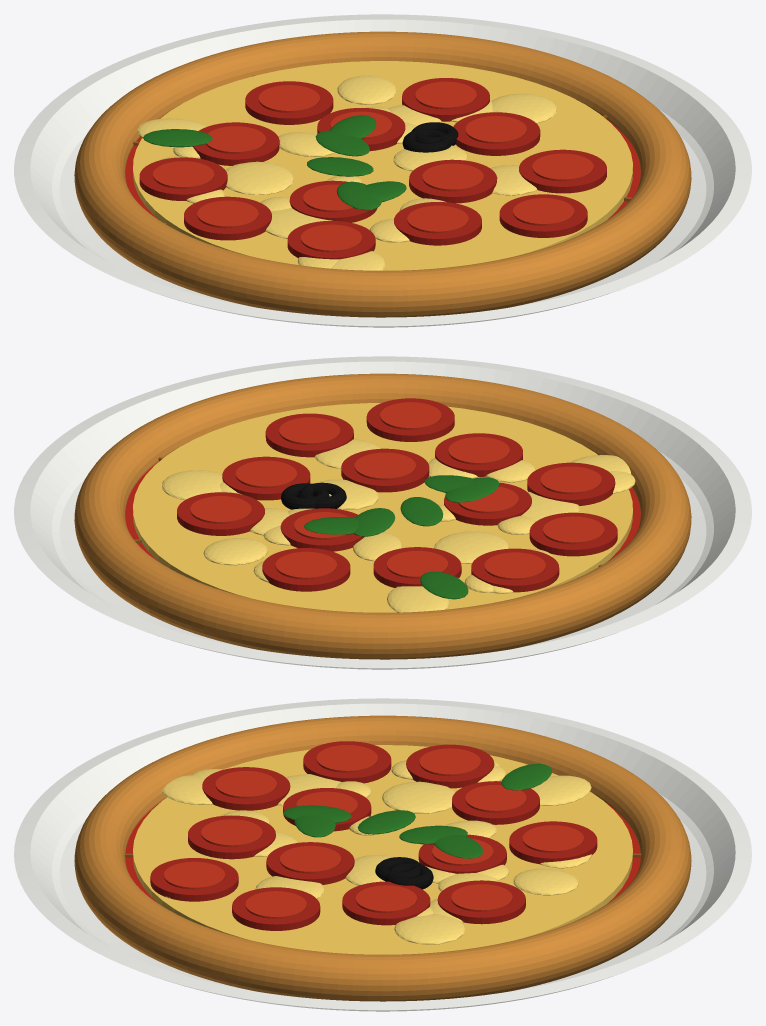
Rendered from pizza.glb.
The picture shows the model from 3 angles, top to bottom: view 1: azimuth 30°, elevation 25°; view 2: azimuth 150°, elevation 25°; view 3: azimuth 270°, elevation 25°; orthographic projection.
Parts seen in each view (by area): view 1: borda, prato, queijo, calabresa8, calabresa9, derretido10, calabresa7, calabresa1, calabresa6, calabresa11, calabresa3, calabresa12 (+37 smaller); view 2: borda, prato, queijo, calabresa8, calabresa7, calabresa9, calabresa4, calabresa6, calabresa3, calabresa12, calabresa10, calabresa11 (+38 smaller); view 3: borda, prato, queijo, calabresa3, calabresa8, derretido10, calabresa10, calabresa11, calabresa4, calabresa9, calabresa1, calabresa2 (+35 smaller).
Boxes of the visible parts, <box> form: borda: <box>74,31,691,317</box>; prato: <box>14,14,751,327</box>; queijo: <box>133,61,632,270</box>; calabresa8: <box>499,194,587,237</box>; calabresa9: <box>245,81,333,124</box>; derretido10: <box>225,161,293,194</box>; calabresa7: <box>184,196,271,240</box>; calabresa1: <box>453,112,540,155</box>; calabresa6: <box>409,159,497,203</box>; calabresa11: <box>394,202,481,245</box>; calabresa3: <box>519,149,606,193</box>; calabresa12: <box>139,157,227,200</box>; borda: <box>74,373,691,659</box>; prato: <box>14,356,751,669</box>; queijo: <box>133,403,632,612</box>; calabresa8: <box>366,398,454,441</box>; calabresa7: <box>529,512,617,556</box>; calabresa9: <box>262,548,350,591</box>; calabresa4: <box>177,492,264,535</box>; calabresa6: <box>341,448,429,492</box>; calabresa3: <box>265,413,353,457</box>; calabresa12: <box>471,548,559,592</box>; calabresa10: <box>527,462,615,505</box>; calabresa11: <box>435,433,522,476</box>; borda: <box>74,715,691,1001</box>; prato: <box>14,698,751,1011</box>; queijo: <box>133,745,632,954</box>; calabresa3: <box>232,887,320,930</box>; calabresa8: <box>150,858,238,901</box>; derretido10: <box>382,781,455,813</box>; calabresa10: <box>202,767,290,810</box>; calabresa11: <box>188,815,275,859</box>; calabresa4: <box>437,880,525,924</box>; calabresa9: <box>509,821,597,864</box>; calabresa1: <box>342,881,430,925</box>; calabresa2: <box>452,781,539,824</box>.
Size of the model in its own units: 0.36 by 0.0325 by 0.36.
